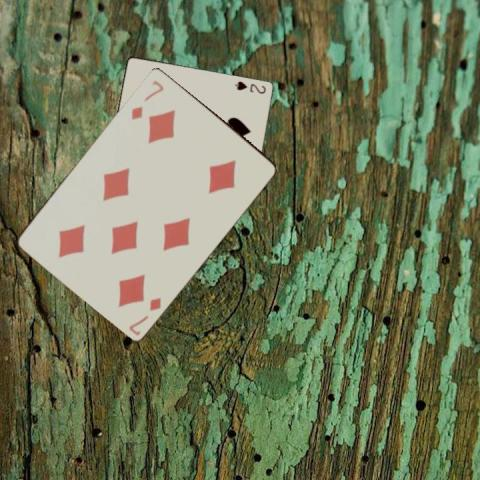2s: (232, 79, 267, 95)
7d: (125, 293, 163, 337), (128, 77, 165, 121)
